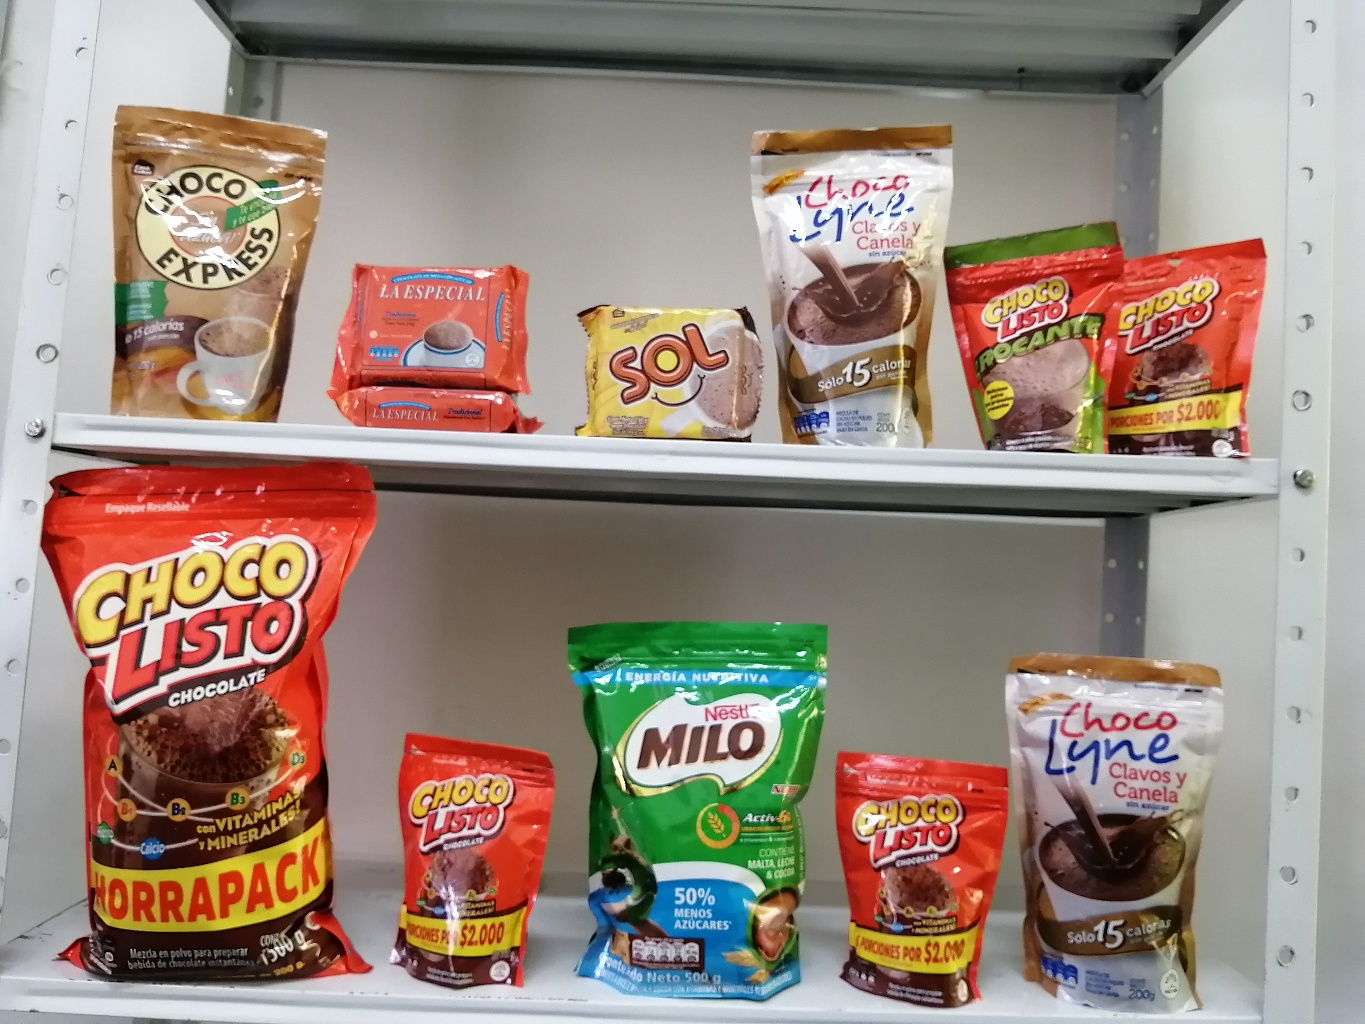COL0170102DYP10000: (951, 230, 1132, 457)
COL0170103DYP1,500: (41, 463, 383, 983)
COL0170103DYP10000: (1115, 230, 1266, 455)
COL0170205DYP50000: (565, 615, 825, 1002)
